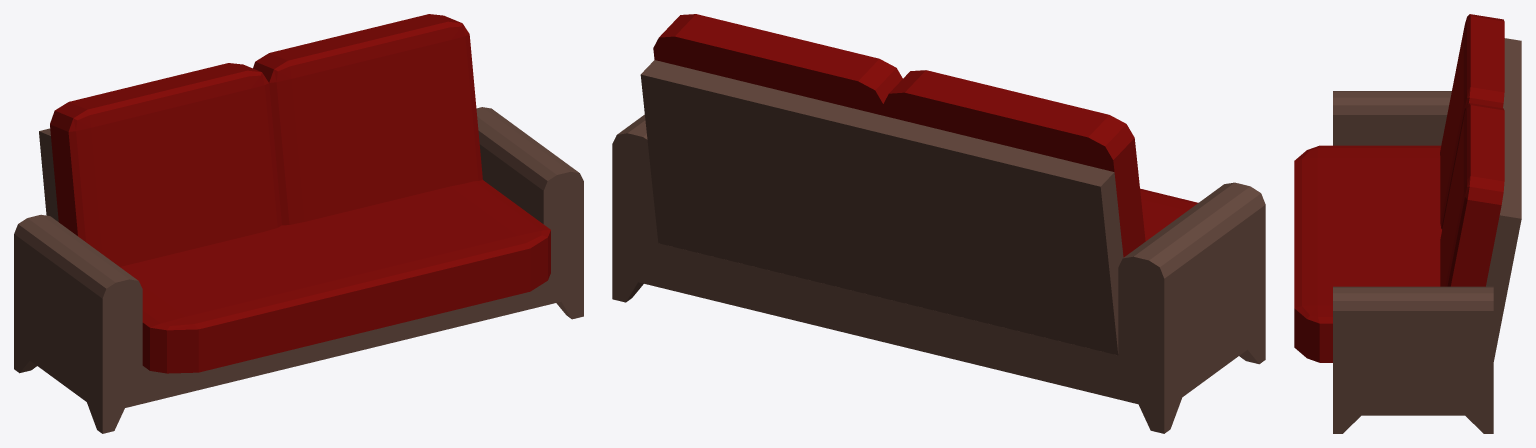
The model's file is Couch01.glb.
The picture shows the model from 3 angles, left to right: view 1: azimuth 30°, elevation 25°; view 2: azimuth 150°, elevation 25°; view 3: azimuth 270°, elevation 25°; orthographic projection. The views are drawn at different scales.
Parts seen in each view (by area): view 1: Couch01; view 2: Couch01; view 3: Couch01.
Part boxes in pixels (left/top/right/bottom): Couch01: left=14, top=14, right=583, bottom=433; Couch01: left=612, top=14, right=1265, bottom=433; Couch01: left=1294, top=14, right=1521, bottom=433.
Bounding box in the file's own units: 2.15 × 1.09 × 0.968.
